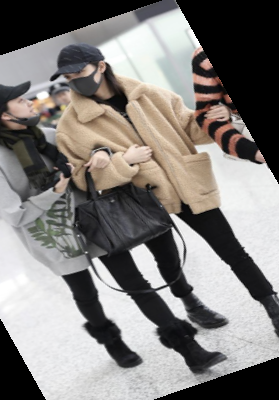mask_weared_incorrect: (1, 76, 43, 138)
